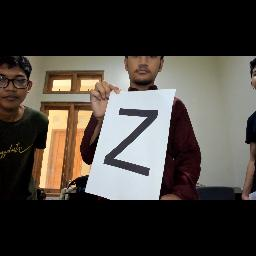z: (94, 100, 168, 182)
